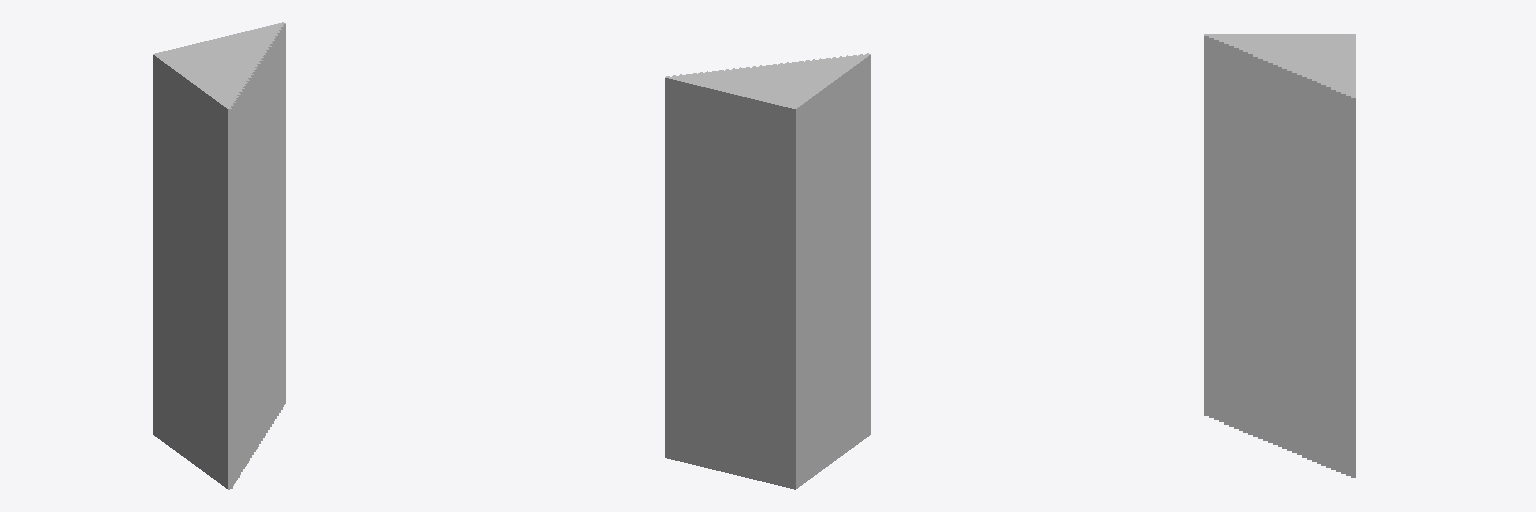
Rendered from case_8.obj.
3 renders of one model, left to right at view 1: azimuth 30°, elevation 25°; view 2: azimuth 150°, elevation 25°; view 3: azimuth 270°, elevation 25°, orthographic.
Parts seen in each view (by area): view 1: Untitled; view 2: Untitled; view 3: Untitled.
Boxes of the visible parts, x1=… form: Untitled: x1=153, y1=22, x2=285, y2=489; Untitled: x1=665, y1=53, x2=870, y2=489; Untitled: x1=1204, y1=34, x2=1355, y2=477.
Bounding box in the file's own units: 3.1 × 8.6 × 3.1.